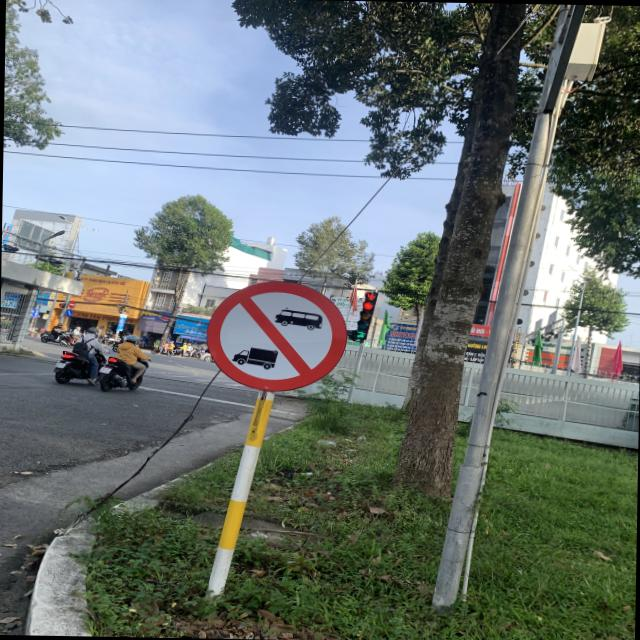Cam_XeTai_XeKhach: (208, 282, 348, 392)
